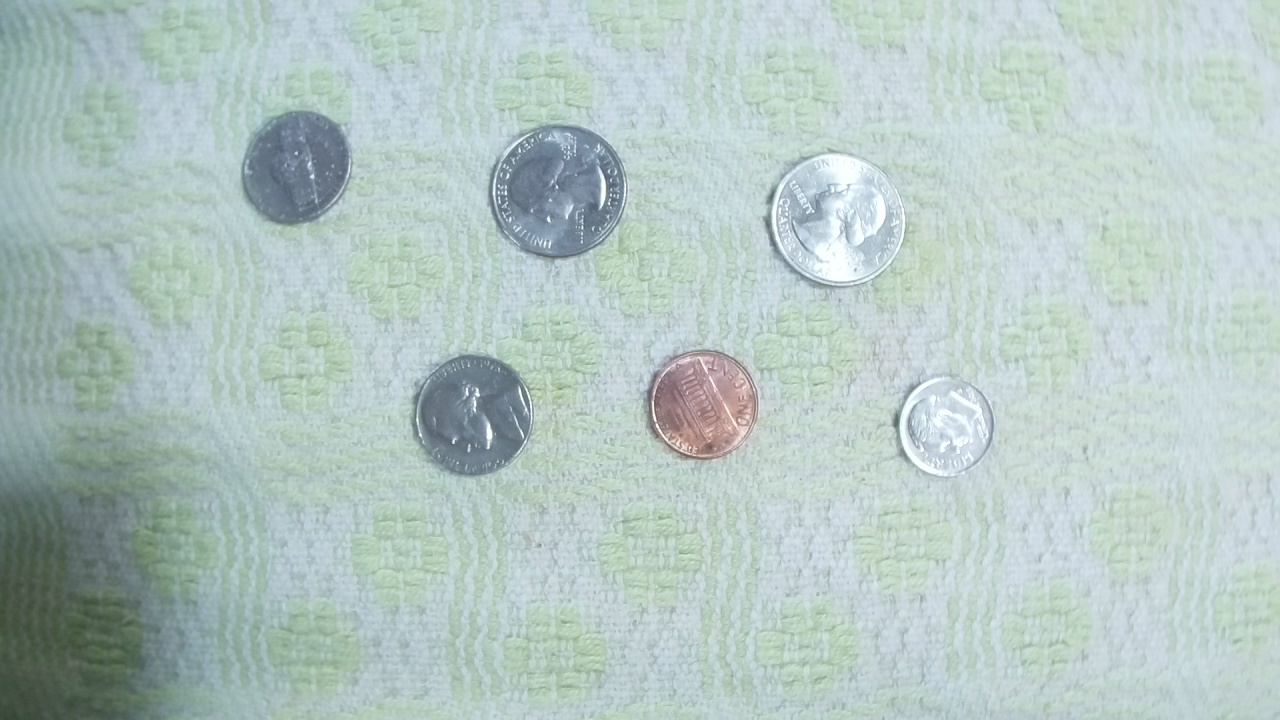dime: (897, 375, 997, 481)
nickel: (410, 352, 536, 477), (240, 108, 354, 226)
penny: (648, 348, 761, 463)
quarter: (765, 150, 909, 290), (490, 122, 628, 259)
